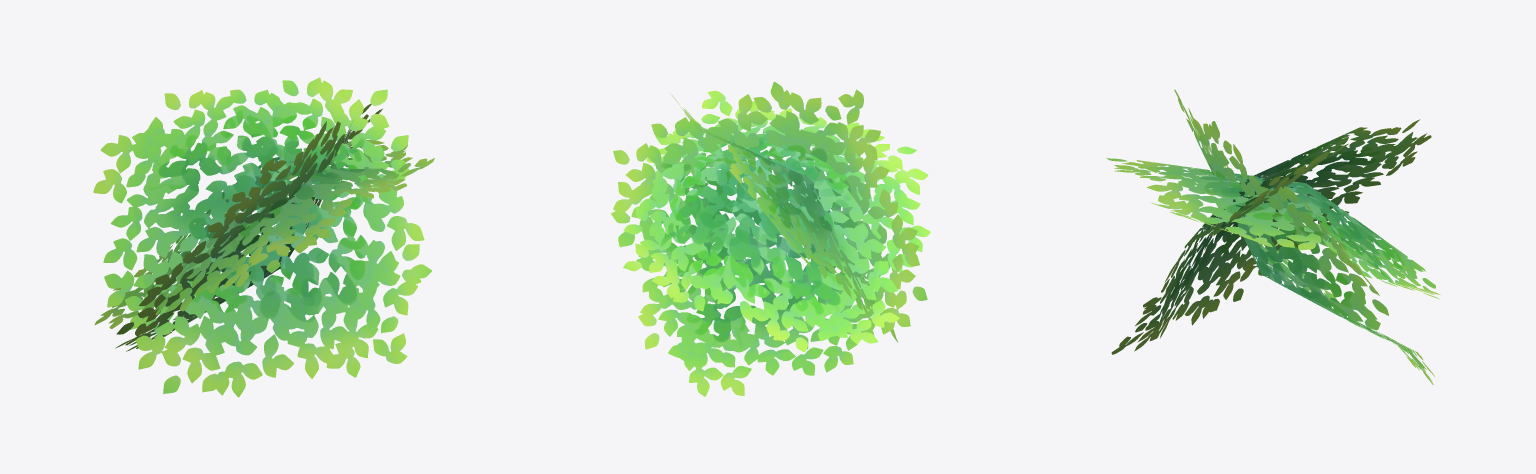
Rendered from Leaves.fbx.
3 renders of one model, left to right at view 1: azimuth 30°, elevation 25°; view 2: azimuth 150°, elevation 25°; view 3: azimuth 270°, elevation 25°, orthographic. The views are drawn at different scales.
Parts seen in each view (by area): view 1: polySurface18; view 2: polySurface18; view 3: polySurface18.
Part boxes in pixels (left/top/right/bottom): polySurface18: left=93, top=77, right=434, bottom=397; polySurface18: left=611, top=81, right=930, bottom=396; polySurface18: left=1106, top=89, right=1440, bottom=384.
Size of the model in its own units: 9.94 by 8.24 by 9.11.
